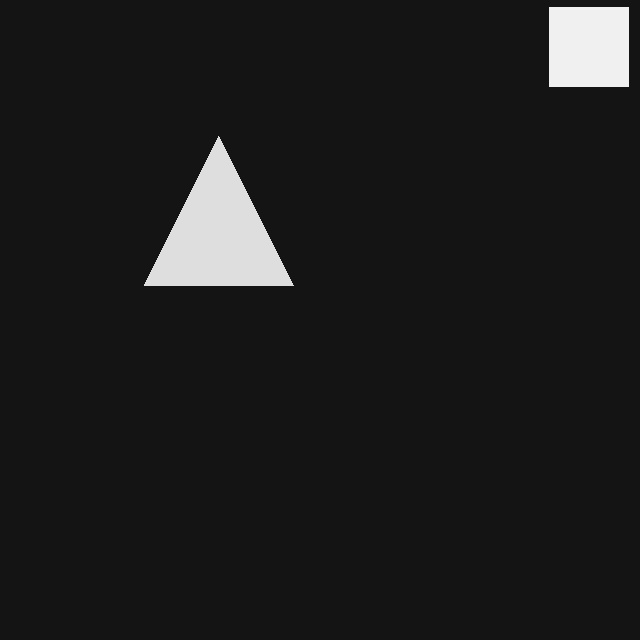square: (549, 7, 628, 86)
triangle: (144, 136, 293, 285)
